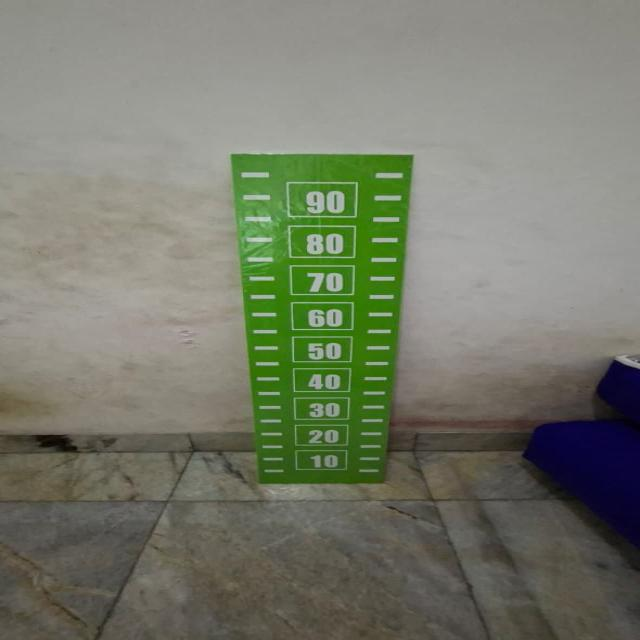water-meter: (215, 144, 434, 499)
